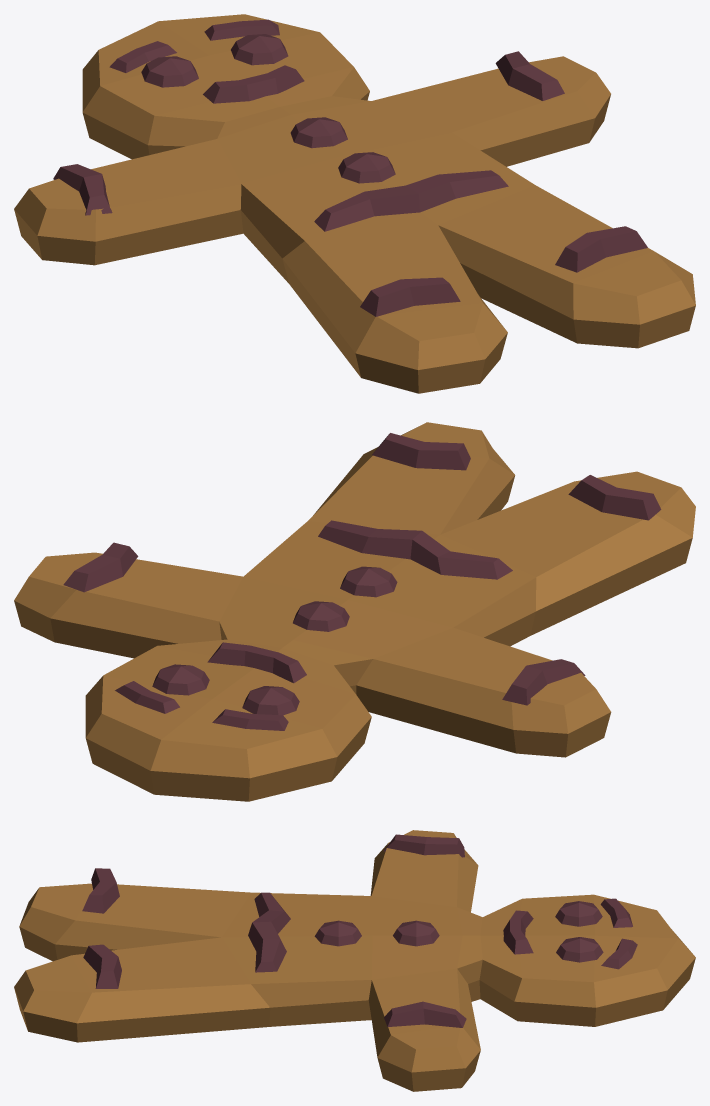
The model's file is gingerbread-man.fbx.
3 views of the same model, one above another, from view 1: azimuth 30°, elevation 25°; view 2: azimuth 150°, elevation 25°; view 3: azimuth 270°, elevation 25° (orthographic). The views are drawn at different scales.
Visible parts, largest first — view 1: gingerbread-man; view 2: gingerbread-man; view 3: gingerbread-man.
Boxes of the visible parts, x1,y1,x2,y2 form: gingerbread-man: (14, 14, 695, 393); gingerbread-man: (14, 422, 695, 801); gingerbread-man: (14, 830, 695, 1091).
Bounding box in the file's own units: 0.1363 × 0.0158 × 0.1715.
